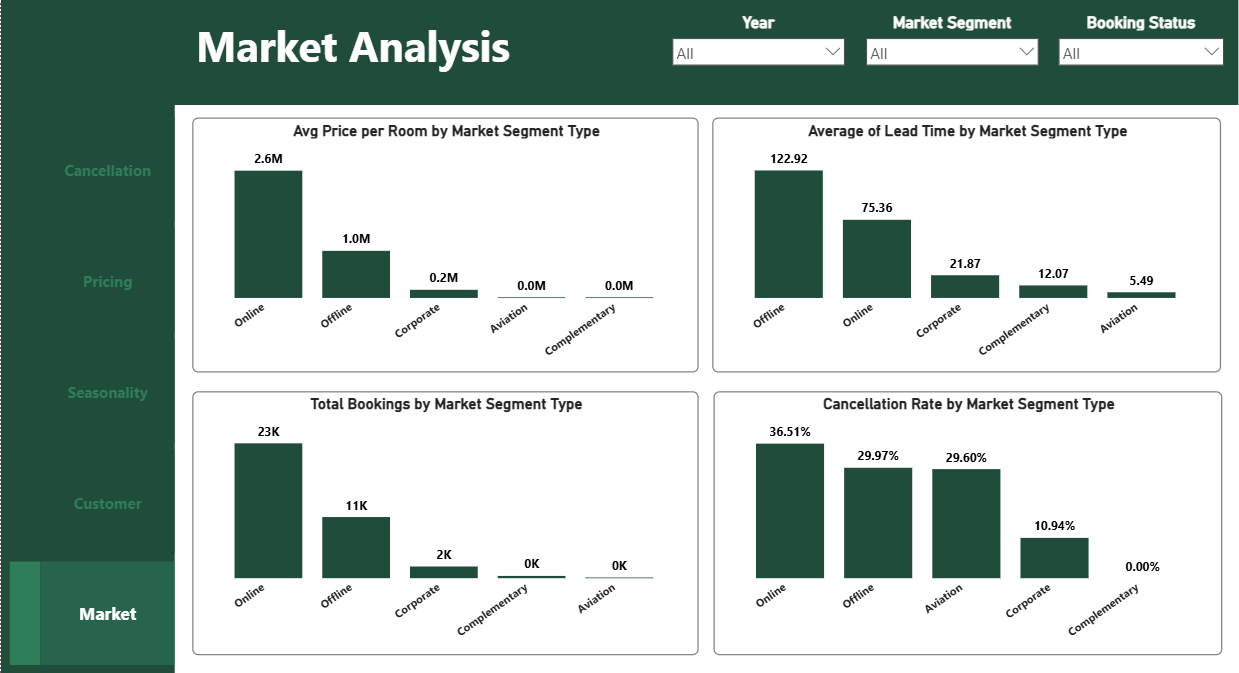

The dashboard page shown, as its layout file describes it:
{"tool":"powerbi","page":{"name":"Market","canvas":[1650,900],"ordinal":4},"visuals":[{"type":"clusteredColumnChart","title":"Total Bookings by Market Segment Type","fields":{"Y":["Measure.Total Bookings"],"Category":["Market.market_segment_type"]},"box":[255,521.7,675,351.7],"z":0},{"type":"clusteredColumnChart","title":"Cancellation Rate by Market Segment Type","fields":{"Category":["Market.market_segment_type"],"Y":["Measure.Cancellation Rate"]},"box":[950,521.7,678.3,351.7],"z":1000},{"type":"clusteredColumnChart","title":"Avg Price per Room by Market Segment Type","fields":{"Y":["Sum(Hotel Reservations.avg_price_per_room)"],"Category":["Market.market_segment_type"]},"box":[255,156.7,675,340],"z":2000},{"type":"clusteredColumnChart","title":"Average of Lead Time by Market Segment Type","fields":{"Category":["Market.market_segment_type"],"Y":["Avg(Hotel Reservations.lead_time)"]},"box":[948.3,156.7,678.3,340],"z":3000},{"type":"shape","box":[165,0,1485,140],"z":4000},{"type":"shape","box":[0,0,231.7,900],"z":5000},{"type":"pageNavigator","box":[53.3,156.7,178.3,730],"z":6000},{"type":"pageNavigator","box":[11.7,156.7,41.7,730],"z":7000},{"type":"textbox","box":[255,16.7,693.3,105],"z":8000},{"type":"slicer","title":"Year","fields":{"Values":["Date.Year"]},"box":[885,16.7,250,78.3],"z":9000},{"type":"slicer","title":"Market Segment","fields":{"Values":["Market.market_segment_type"]},"box":[1142.5,16.7,250,78.3],"z":10000},{"type":"slicer","title":"Booking Status","fields":{"Values":["Booking Status.booking_status"]},"box":[1400,16.7,240,78.3],"z":11000}]}

Visuals, with their boxes in screenshot pixels (x1, y1, x2, y2), scaled from the page's 1650x900 canvas onto the 1239x673 screenshot:
"Total Bookings by Market Segment Type" clusteredColumnChart: [191, 390, 698, 653]
"Cancellation Rate by Market Segment Type" clusteredColumnChart: [713, 390, 1223, 653]
"Avg Price per Room by Market Segment Type" clusteredColumnChart: [191, 117, 698, 371]
"Average of Lead Time by Market Segment Type" clusteredColumnChart: [712, 117, 1221, 371]
shape: [124, 0, 1238, 105]
shape: [0, 0, 174, 672]
pageNavigator: [40, 117, 174, 663]
pageNavigator: [9, 117, 40, 663]
textbox: [191, 12, 712, 91]
"Year" slicer: [665, 12, 852, 71]
"Market Segment" slicer: [858, 12, 1046, 71]
"Booking Status" slicer: [1051, 12, 1231, 71]
